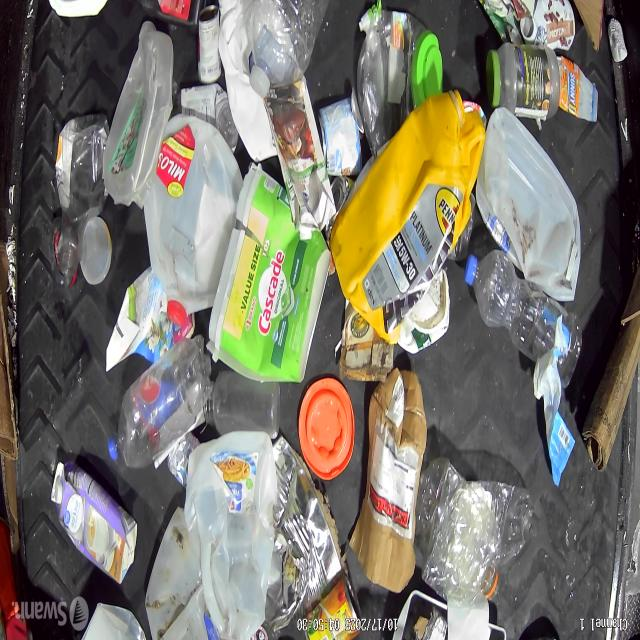can: (304, 574, 362, 640), (197, 7, 223, 84)
milk_jug: (476, 100, 580, 302), (143, 109, 241, 313), (184, 431, 272, 640), (102, 21, 174, 206)
non_white_jug: (330, 89, 484, 345), (50, 457, 137, 585)
plastic_bottle: (466, 252, 581, 387), (106, 335, 210, 467), (420, 476, 500, 598), (248, 0, 335, 95)
